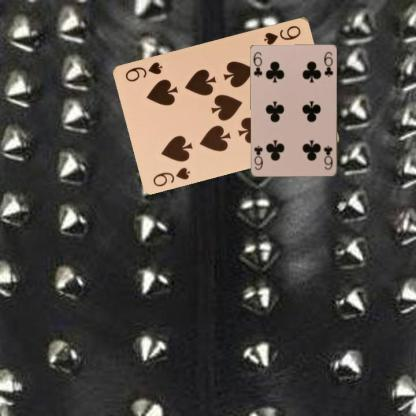6c: (250, 49, 264, 79), (321, 143, 334, 171)
9s: (150, 164, 192, 188), (261, 22, 302, 46)
